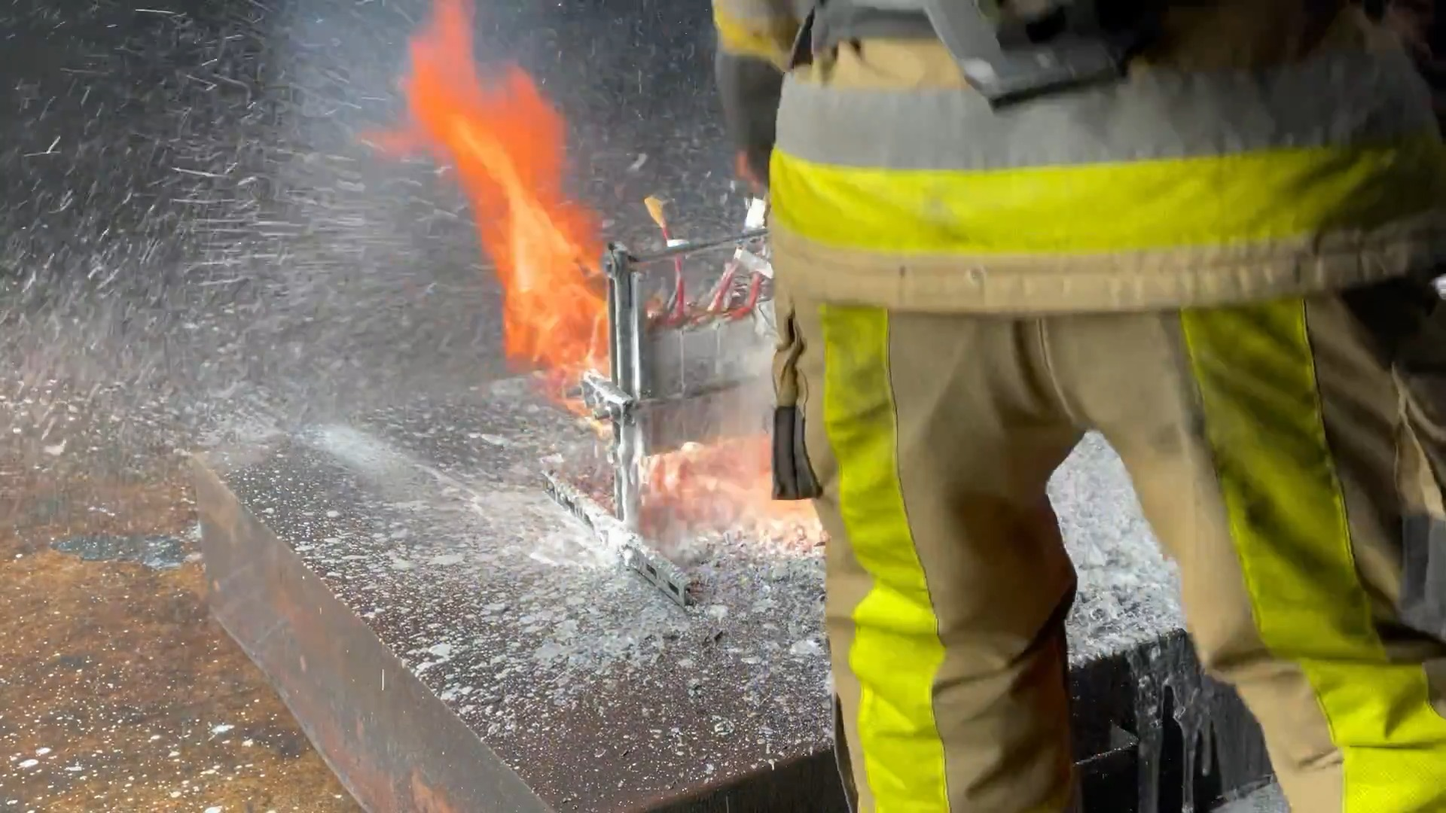fire: (362, 0, 614, 434), (633, 429, 827, 553)
